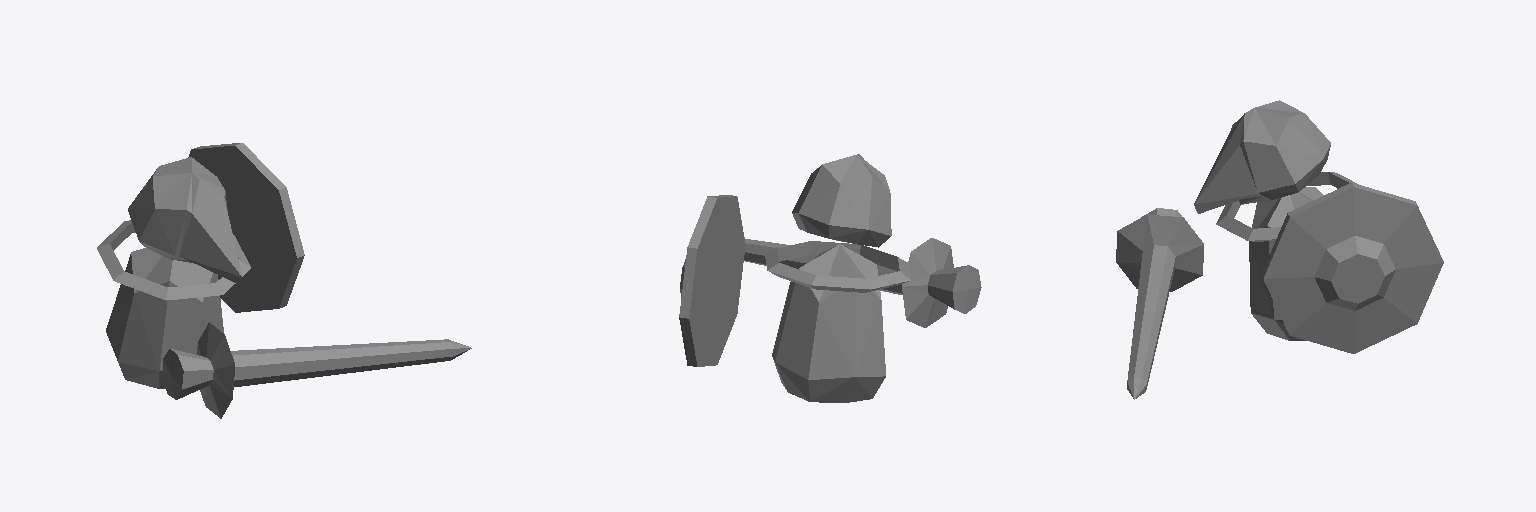
3 renders of one model, left to right at view 1: azimuth 30°, elevation 25°; view 2: azimuth 150°, elevation 25°; view 3: azimuth 270°, elevation 25°, orthographic.
Visible parts, largest first — view 1: meshMinion; view 2: meshMinion; view 3: meshMinion.
Boxes of the visible parts, x1,y1,x2,y2 form: meshMinion: [97, 143, 471, 418]; meshMinion: [679, 154, 981, 402]; meshMinion: [1116, 100, 1443, 399].
Size of the model in its own units: 136 by 100 by 134.